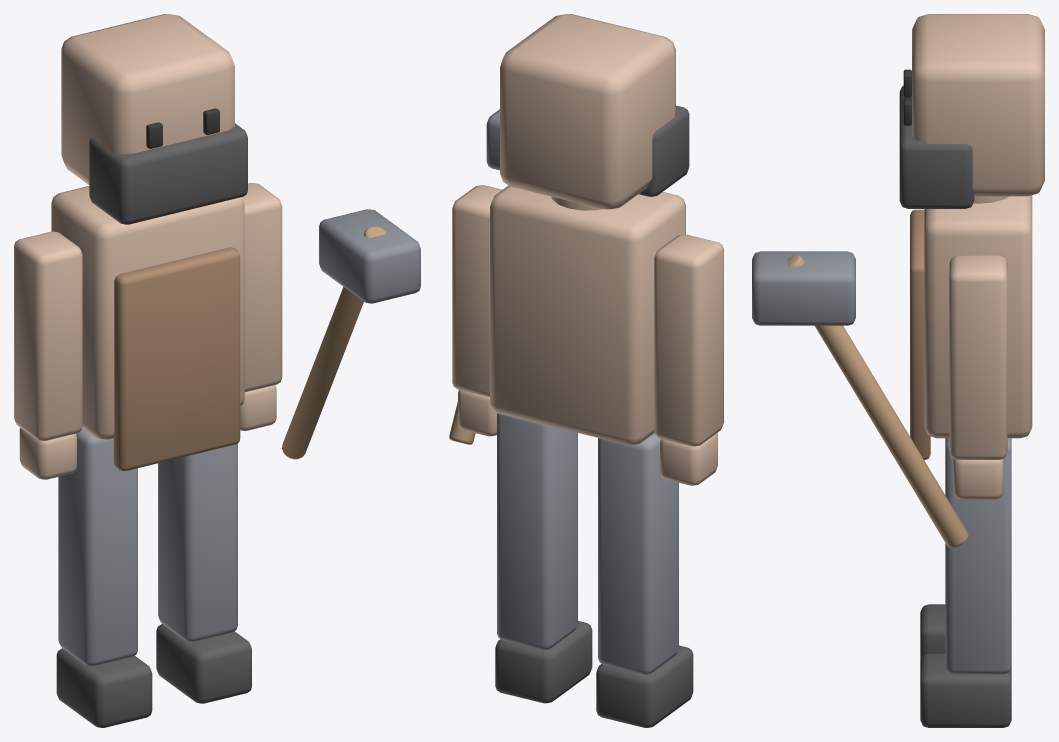
Rendered from npc_blacksmith.glb.
3 renders of one model, left to right at view 1: azimuth 30°, elevation 25°; view 2: azimuth 150°, elevation 25°; view 3: azimuth 270°, elevation 25°, orthographic.
Visible parts, largest first — view 1: Vulcan_Apron, Vulcan_Head, Vulcan_Leg_L, Vulcan_Torso, Vulcan_Leg_R, Vulcan_Arm_L, Vulcan_Beard, Vulcan_Arm_R, Vulcan_Hammer_Head, Vulcan_Shoe_L, Vulcan_Shoe_R, Vulcan_Hammer_Handle (+2 smaller); view 2: Vulcan_Torso, Vulcan_Head, Vulcan_Leg_R, Vulcan_Leg_L, Vulcan_Arm_L, Vulcan_Arm_R, Vulcan_Shoe_L, Vulcan_Shoe_R, Vulcan_Beard, Vulcan_Hand_L, Vulcan_Hand_R, Vulcan_Hammer_Head; view 3: Vulcan_Head, Vulcan_Torso, Vulcan_Leg_R, Vulcan_Arm_R, Vulcan_Hammer_Head, Vulcan_Hammer_Handle, Vulcan_Shoe_R, Vulcan_Beard, Vulcan_Apron, Vulcan_Hand_R, Vulcan_Shoe_L.
Part boxes in pixels (left/top/right/bottom): Vulcan_Apron: left=113, top=247, right=240, bottom=471; Vulcan_Head: left=61, top=14, right=234, bottom=184; Vulcan_Leg_L: left=58, top=428, right=137, bottom=666; Vulcan_Torso: left=51, top=186, right=244, bottom=439; Vulcan_Leg_R: left=158, top=443, right=237, bottom=641; Vulcan_Arm_L: left=14, top=231, right=82, bottom=440; Vulcan_Beard: left=89, top=123, right=247, bottom=224; Vulcan_Arm_R: left=242, top=183, right=282, bottom=392; Vulcan_Hammer_Head: left=319, top=209, right=420, bottom=303; Vulcan_Shoe_L: left=56, top=648, right=152, bottom=727; Vulcan_Shoe_R: left=156, top=624, right=251, bottom=703; Vulcan_Hammer_Handle: left=282, top=226, right=386, bottom=459; Vulcan_Torso: left=490, top=185, right=685, bottom=444; Vulcan_Head: left=500, top=14, right=675, bottom=209; Vulcan_Leg_R: left=497, top=413, right=577, bottom=649; Vulcan_Leg_L: left=598, top=433, right=678, bottom=674; Vulcan_Arm_L: left=654, top=234, right=723, bottom=446; Vulcan_Arm_R: left=452, top=185, right=502, bottom=396; Vulcan_Shoe_L: left=596, top=645, right=693, bottom=727; Vulcan_Shoe_R: left=495, top=621, right=592, bottom=703; Vulcan_Beard: left=639, top=105, right=689, bottom=196; Vulcan_Hand_L: left=660, top=433, right=717, bottom=485; Vulcan_Hand_R: left=458, top=389, right=497, bottom=436; Vulcan_Hammer_Head: left=486, top=109, right=499, bottom=170; Vulcan_Head: left=912, top=14, right=1044, bottom=196; Vulcan_Torso: left=924, top=195, right=1032, bottom=438; Vulcan_Leg_R: left=945, top=438, right=1011, bottom=674; Vulcan_Arm_R: left=949, top=255, right=1007, bottom=459; Vulcan_Hammer_Head: left=752, top=251, right=855, bottom=325; Vulcan_Hammer_Handle: left=787, top=255, right=968, bottom=548; Vulcan_Shoe_R: left=920, top=653, right=1011, bottom=727; Vulcan_Beard: left=899, top=85, right=974, bottom=208; Vulcan_Apron: left=910, top=209, right=930, bottom=459; Vulcan_Hand_R: left=953, top=459, right=1003, bottom=499; Vulcan_Shoe_L: left=920, top=604, right=945, bottom=660.
Size of the model in its own units: 0.805 by 1.74 by 0.705.
